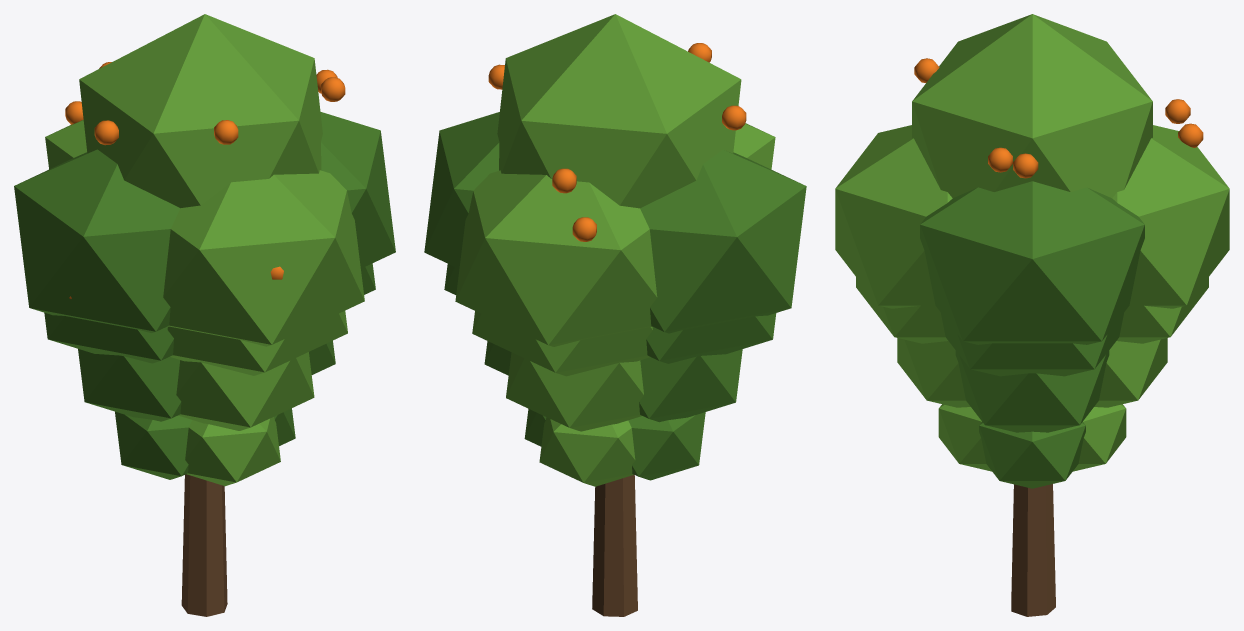
File: Crop_Fruit_Persimmon.fbx
3 renders of one model, left to right at view 1: azimuth 30°, elevation 25°; view 2: azimuth 150°, elevation 25°; view 3: azimuth 270°, elevation 25°, orthographic.
Visible parts, largest first — view 1: Crop_Fruit_Persimmon__S4, Crop_Fruit_Persimmon__S2, Crop_Fruit_Persimmon__S1, Crop_Fruit_Persimmon__S3; view 2: Crop_Fruit_Persimmon__S4, Crop_Fruit_Persimmon__S2, Crop_Fruit_Persimmon__S1, Crop_Fruit_Persimmon__S3; view 3: Crop_Fruit_Persimmon__S4, Crop_Fruit_Persimmon__S2, Crop_Fruit_Persimmon__S1, Crop_Fruit_Persimmon__S3.
Part boxes in pixels (bbox=[...]): Crop_Fruit_Persimmon__S4: bbox=[14, 14, 395, 616]; Crop_Fruit_Persimmon__S2: bbox=[78, 340, 335, 430]; Crop_Fruit_Persimmon__S1: bbox=[115, 408, 295, 486]; Crop_Fruit_Persimmon__S3: bbox=[44, 263, 375, 375]; Crop_Fruit_Persimmon__S4: bbox=[424, 14, 806, 616]; Crop_Fruit_Persimmon__S2: bbox=[484, 341, 742, 431]; Crop_Fruit_Persimmon__S1: bbox=[524, 409, 705, 486]; Crop_Fruit_Persimmon__S3: bbox=[444, 264, 776, 376]; Crop_Fruit_Persimmon__S4: bbox=[835, 14, 1229, 616]; Crop_Fruit_Persimmon__S2: bbox=[897, 338, 1167, 432]; Crop_Fruit_Persimmon__S1: bbox=[938, 404, 1126, 488]; Crop_Fruit_Persimmon__S3: bbox=[856, 277, 1208, 376].
Size of the model in its own units: 0.551 by 0.888 by 0.5353.
